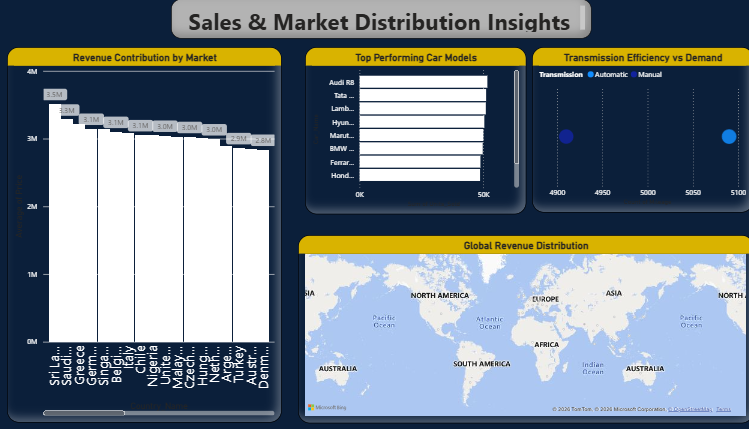

Layout of this report page (visuals, bound fields, positions):
{"tool":"powerbi","page":{"name":"Page 3","canvas":[1280,720],"ordinal":1},"visuals":[{"type":"clusteredBarChart","title":"Top Performing Car Models","fields":{"Category":["car_sales_with_names_10000x21.Car_Name"],"Y":["Sum(car_sales_with_names_10000x21.Units_Sold)"]},"box":[509.8,80.6,368.6,279.4],"z":0},{"type":"map","title":"Global Revenue Distribution","fields":{"Category":["car_sales_with_names_10000x21.Country_Name"],"Size":["Sum(car_sales_with_names_10000x21.Price)"]},"box":[498.2,393.1,758.9,313.9],"z":1000},{"type":"scatterChart","title":"Transmission Efficiency vs Demand","fields":{"X":["CountNonNull(car_sales_with_names_10000x21.Mileage)"],"Size":["Sum(car_sales_with_names_10000x21.Units_Sold)"],"Series":["car_sales_with_names_10000x21.Transmission"]},"box":[888.5,80.6,368.6,276.5],"z":2000},{"type":"lineClusteredColumnComboChart","title":"Revenue Contribution by Market","fields":{"Category":["car_sales_with_names_10000x21.Country_Name"],"Y":["Avg(car_sales_with_names_10000x21.Price)"]},"box":[13,80.6,457.9,626.4],"z":3000},{"type":"textbox","box":[286.6,0,701.3,66.2],"z":4000}]}

Visuals, with their boxes in screenshot pixels (x1, y1, x2, y2), scaled from the page's 1280x720 canvas onto the 749x429 screenshot:
"Top Performing Car Models" clusteredBarChart: bbox=[298, 48, 514, 214]
"Global Revenue Distribution" map: bbox=[292, 234, 736, 421]
"Transmission Efficiency vs Demand" scatterChart: bbox=[520, 48, 736, 213]
"Revenue Contribution by Market" lineClusteredColumnComboChart: bbox=[8, 48, 276, 421]
textbox: bbox=[168, 0, 578, 39]
